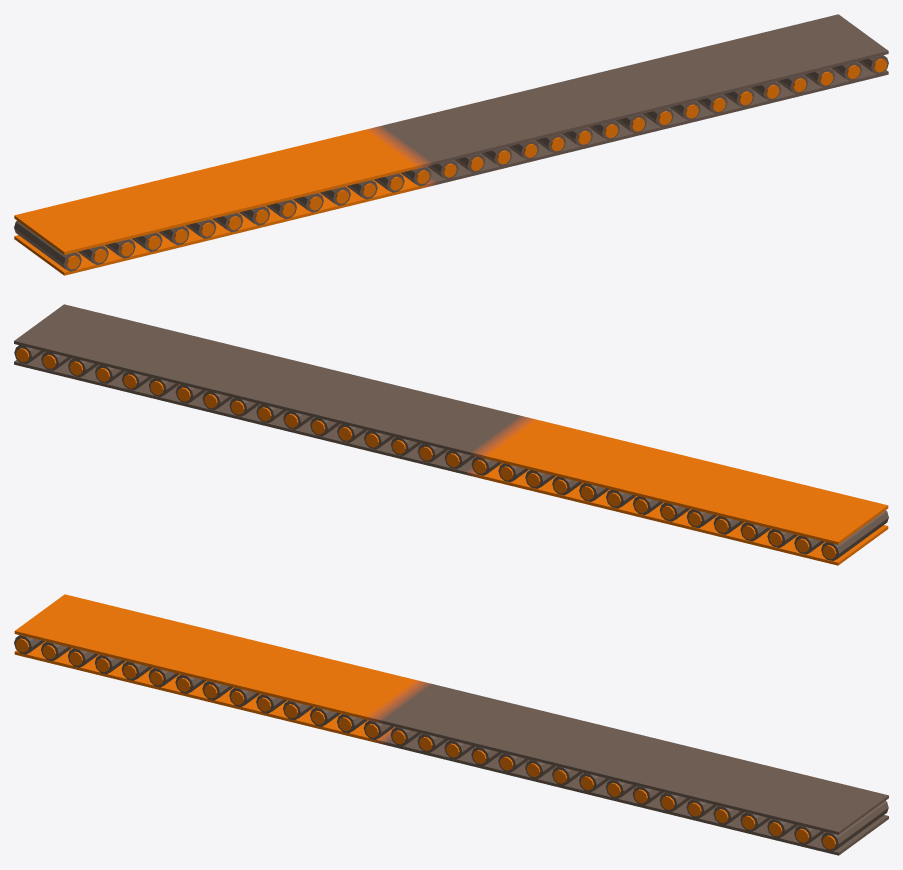
The model's file is cinta_mesh.fbx.
3 renders of one model, top to bottom at view 1: azimuth 30°, elevation 25°; view 2: azimuth 150°, elevation 25°; view 3: azimuth 330°, elevation 25°, orthographic.
Parts seen in each view (by area): view 1: cinta, pCylinder63; view 2: cinta, pCylinder63; view 3: cinta, pCylinder93.
Boxes of the visible parts, <box> form: cinta: <box>14,14,888,275</box>; pCylinder63: <box>14,220,81,271</box>; cinta: <box>14,304,888,565</box>; pCylinder63: <box>821,510,888,560</box>; cinta: <box>14,594,888,855</box>; pCylinder93: <box>821,801,888,851</box>.
Bounding box in the file's own units: 92 × 2.52 × 10.02.
